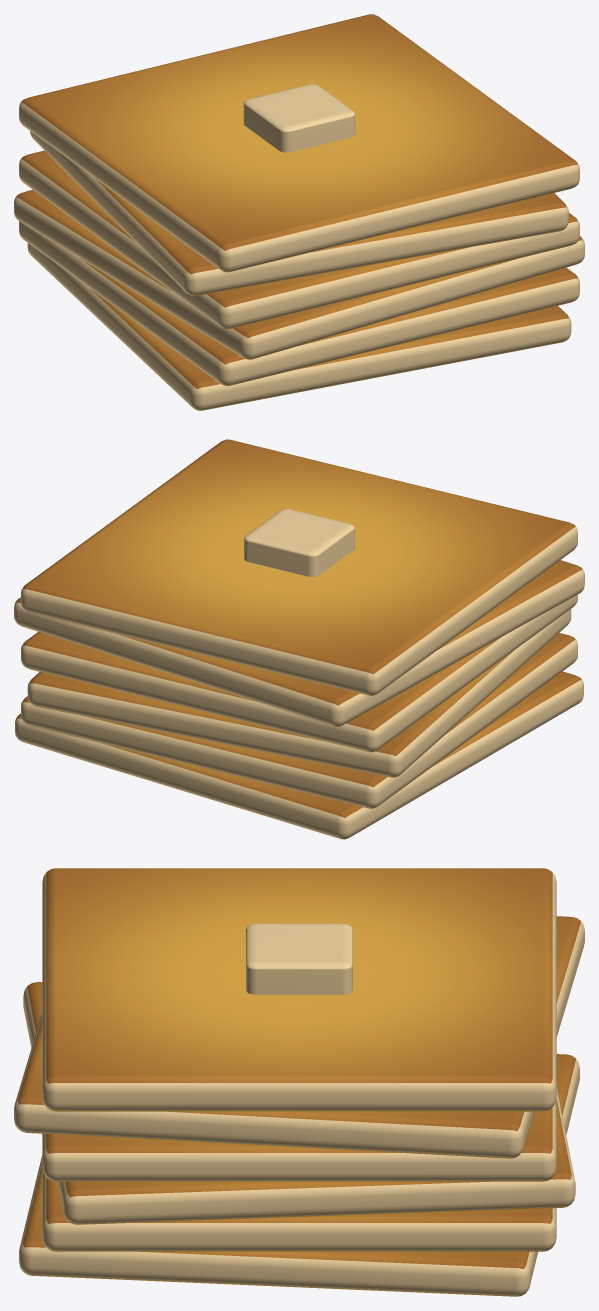
The model's file is Pancake.fbx.
The picture shows the model from 3 angles, top to bottom: view 1: azimuth 30°, elevation 25°; view 2: azimuth 150°, elevation 25°; view 3: azimuth 270°, elevation 25°; orthographic projection. The views are drawn at different scales.
Visible parts, largest first — view 1: pCube7; view 2: pCube7; view 3: pCube7.
Boxes of the visible parts, box(x1,y1,x2,y2) form: pCube7: box(14, 14, 584, 410); pCube7: box(14, 439, 584, 839); pCube7: box(14, 868, 584, 1296).
Size of the model in its own units: 2.68 by 1.24 by 2.68.
Materials: 1 (1 with a texture image).
